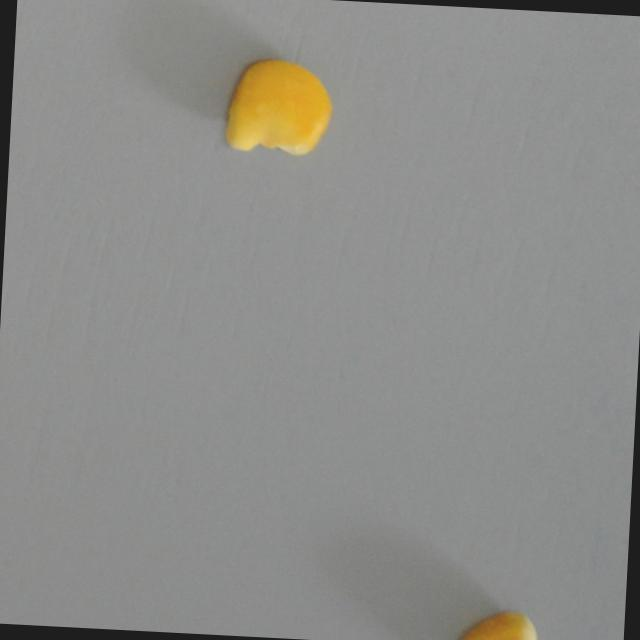no_canjicado: (226, 56, 334, 158)
